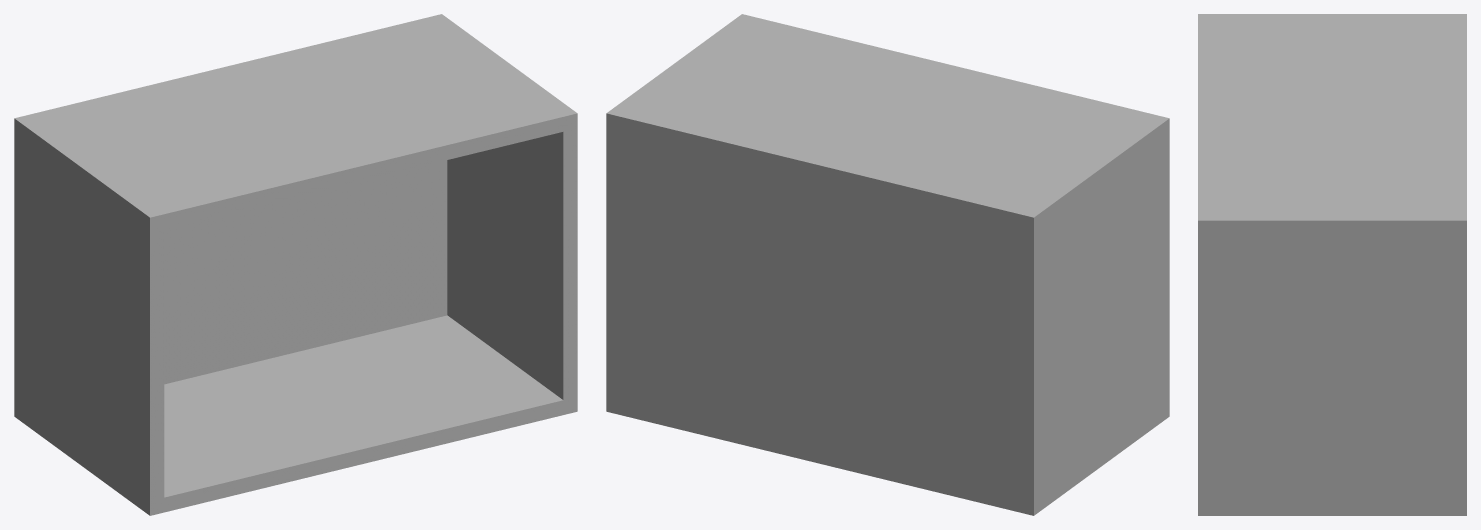
3 views of the same model, side by side, from view 1: azimuth 30°, elevation 25°; view 2: azimuth 150°, elevation 25°; view 3: azimuth 270°, elevation 25° (orthographic).
Parts seen in each view (by area): view 1: Box015; view 2: Box015; view 3: Box015.
Boxes of the visible parts, <box> form: Box015: <box>14,14,577,515</box>; Box015: <box>606,14,1169,515</box>; Box015: <box>1198,14,1466,515</box>.
Size of the model in its own units: 0.6 by 0.4 by 0.33.
Materials: 1 (1 with a texture image).
